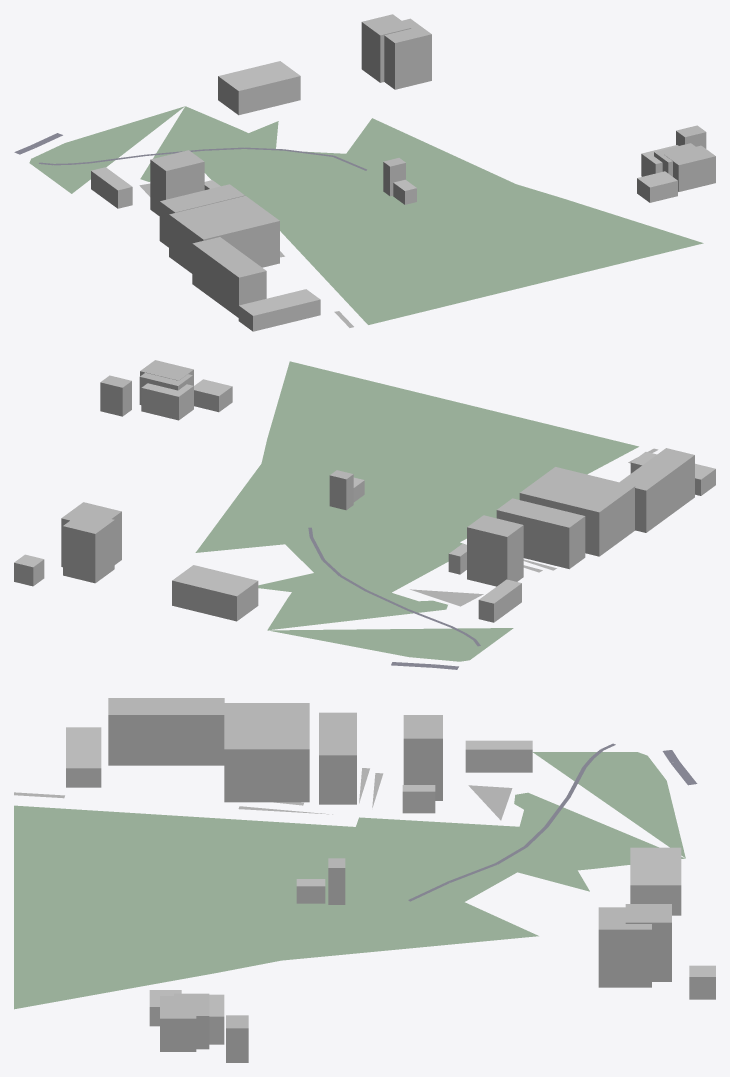
Rendered from 95_104_mid.glb.
3 views of the same model, one above another, from view 1: azimuth 30°, elevation 25°; view 2: azimuth 150°, elevation 25°; view 3: azimuth 270°, elevation 25° (orthographic). The views are drawn at different scales.
Bounding box in the file's own units: 516 × 48.91 × 487.
